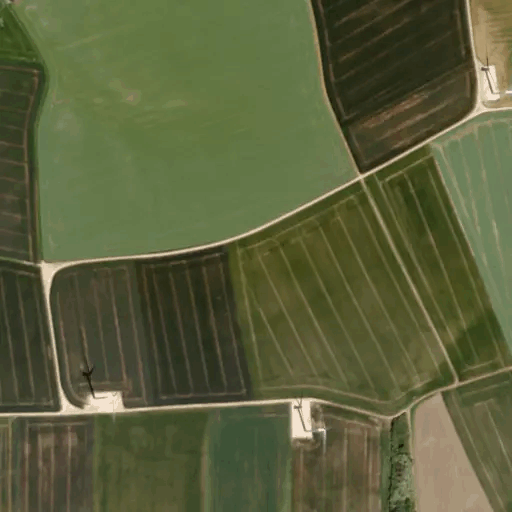wt: (80, 358, 125, 420), (293, 390, 332, 448), (479, 53, 512, 98)
